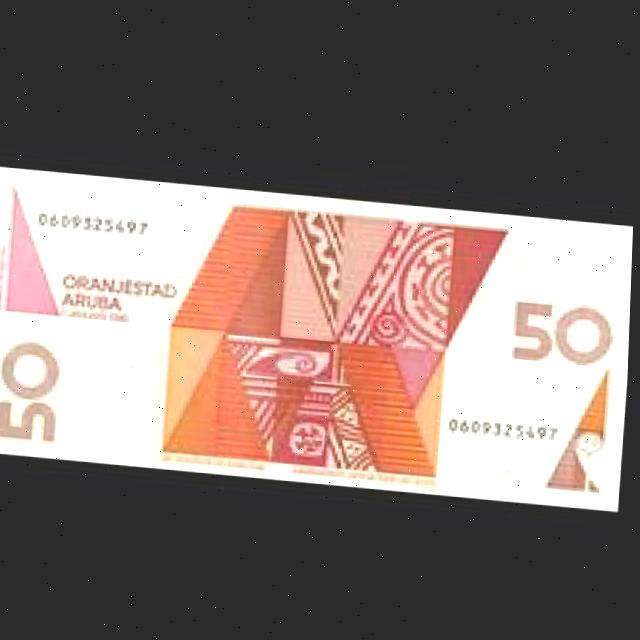banknote: (0, 163, 635, 507)
